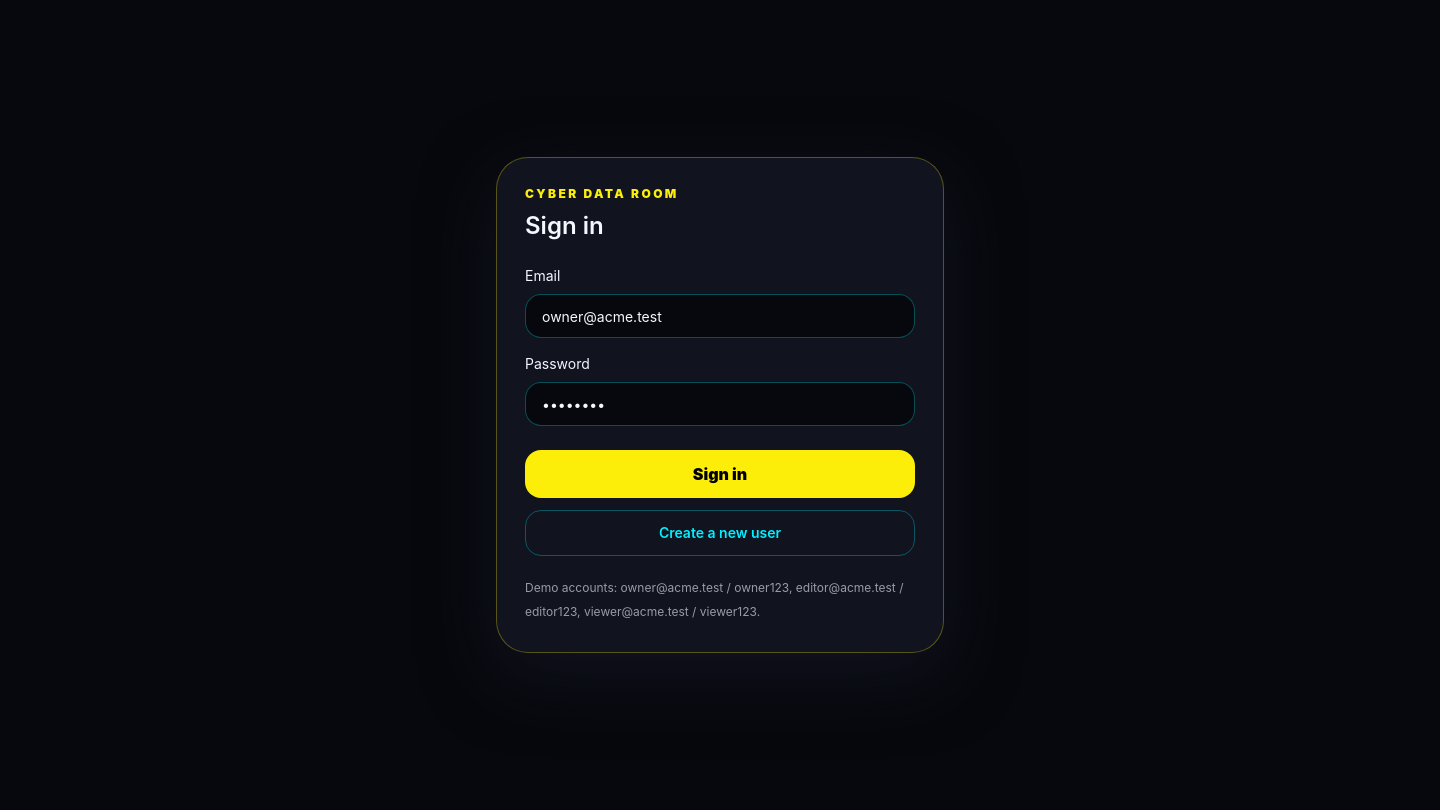
Test: App › signs in and shows accessible data rooms with roles
Click the button "Sign in".
click(720, 474)  # box 525,450 -> 915,498
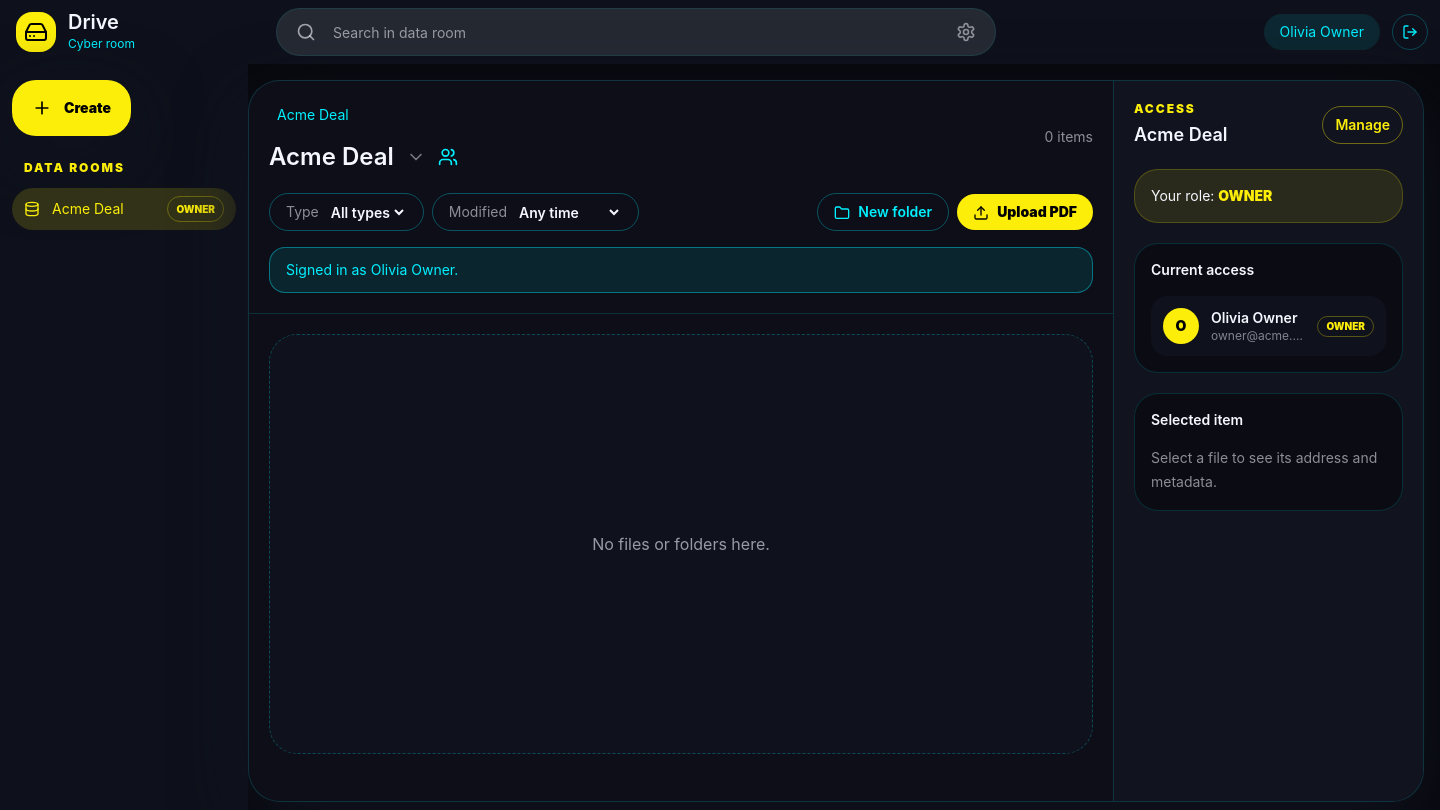
Check: the text "Acme Deal" is shown, box 52,200 -> 124,217
Check: the text "OWNER" below "Data rooms" is shown, box 176,203 -> 215,215
Check: the text "Olivia Owner" in the row of "Cyber room" is shown, box 1280,23 -> 1364,40
